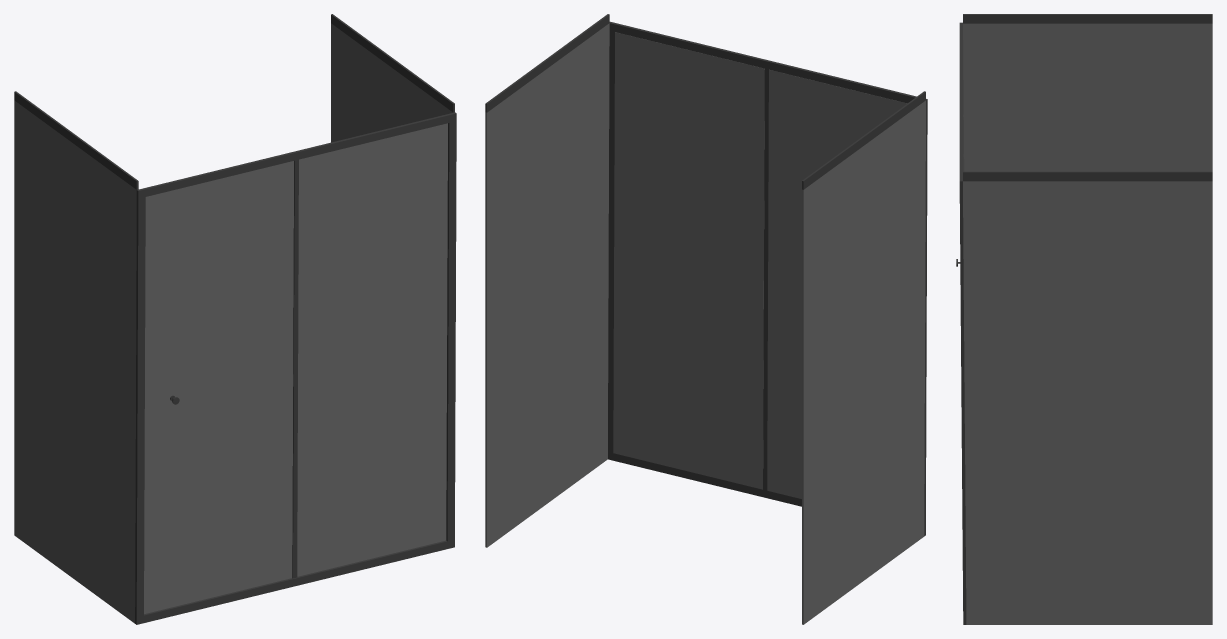
File: Shower_enclosures_003.gltf
3 renders of one model, left to right at view 1: azimuth 30°, elevation 25°; view 2: azimuth 150°, elevation 25°; view 3: azimuth 270°, elevation 25°, orthographic. The views are drawn at different scales.
Visible parts, largest first — view 1: Shower_enclosures_003; view 2: Shower_enclosures_003; view 3: Shower_enclosures_003.
Part boxes in pixels (left/top/right/bottom): Shower_enclosures_003: left=14, top=14, right=456, bottom=624; Shower_enclosures_003: left=485, top=14, right=927, bottom=624; Shower_enclosures_003: left=956, top=14, right=1212, bottom=624.
Bounding box in the file's own units: 15 × 19.98 × 10.27.
Materials: 2 (2 with a texture image).
